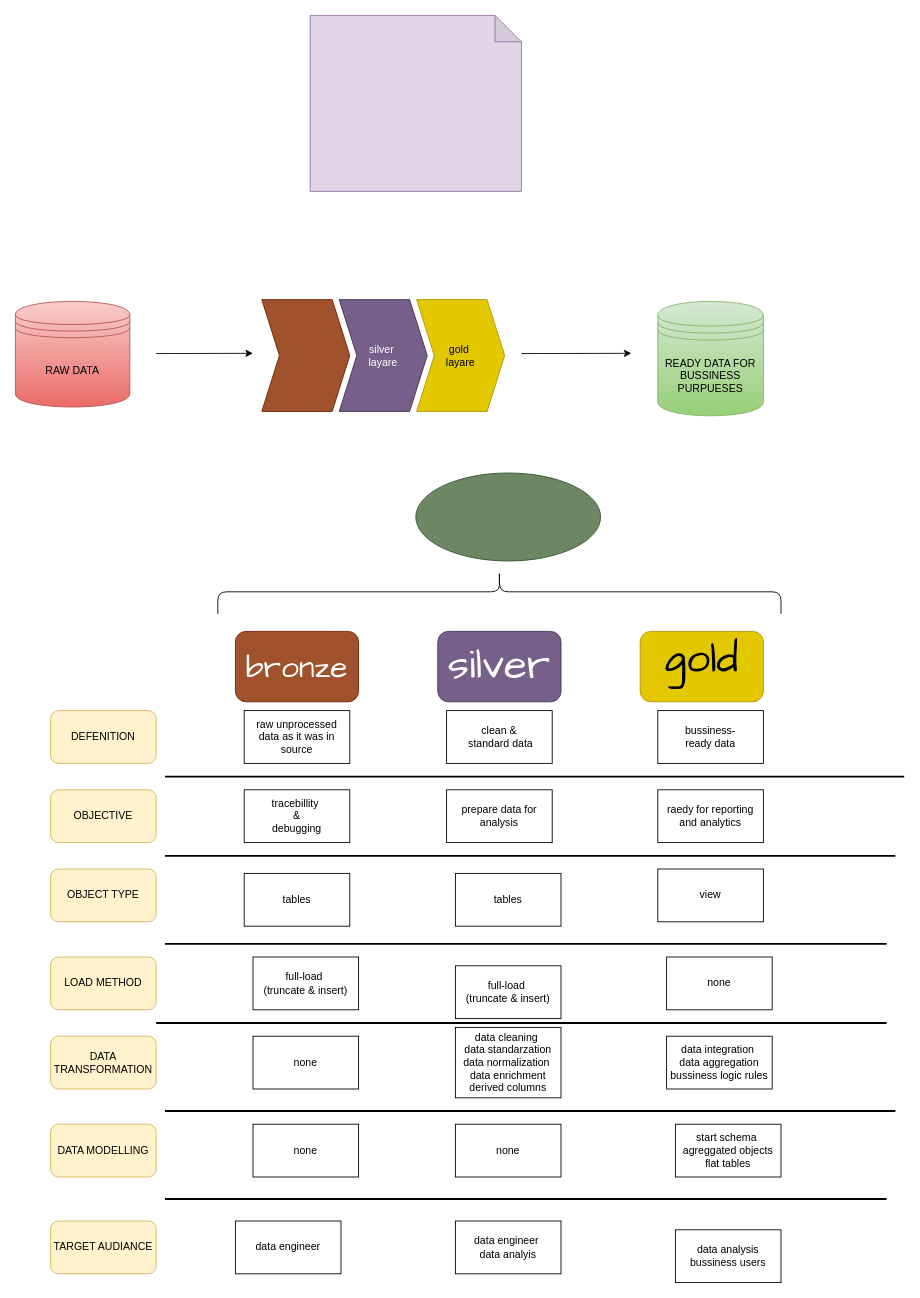
The diagram is 920 pixels wide and 1298 high, and some of its shapes have lost their labels. Here are the shapes that lost their labels. From the top down, the centre of each, then its label:
At (x=415, y=103): "Explained by Mahdi Dehlaghi Data Analyst".
At (x=305, y=355): "bronze layare".
At (x=508, y=516): "Layers in medallioan architucture".
